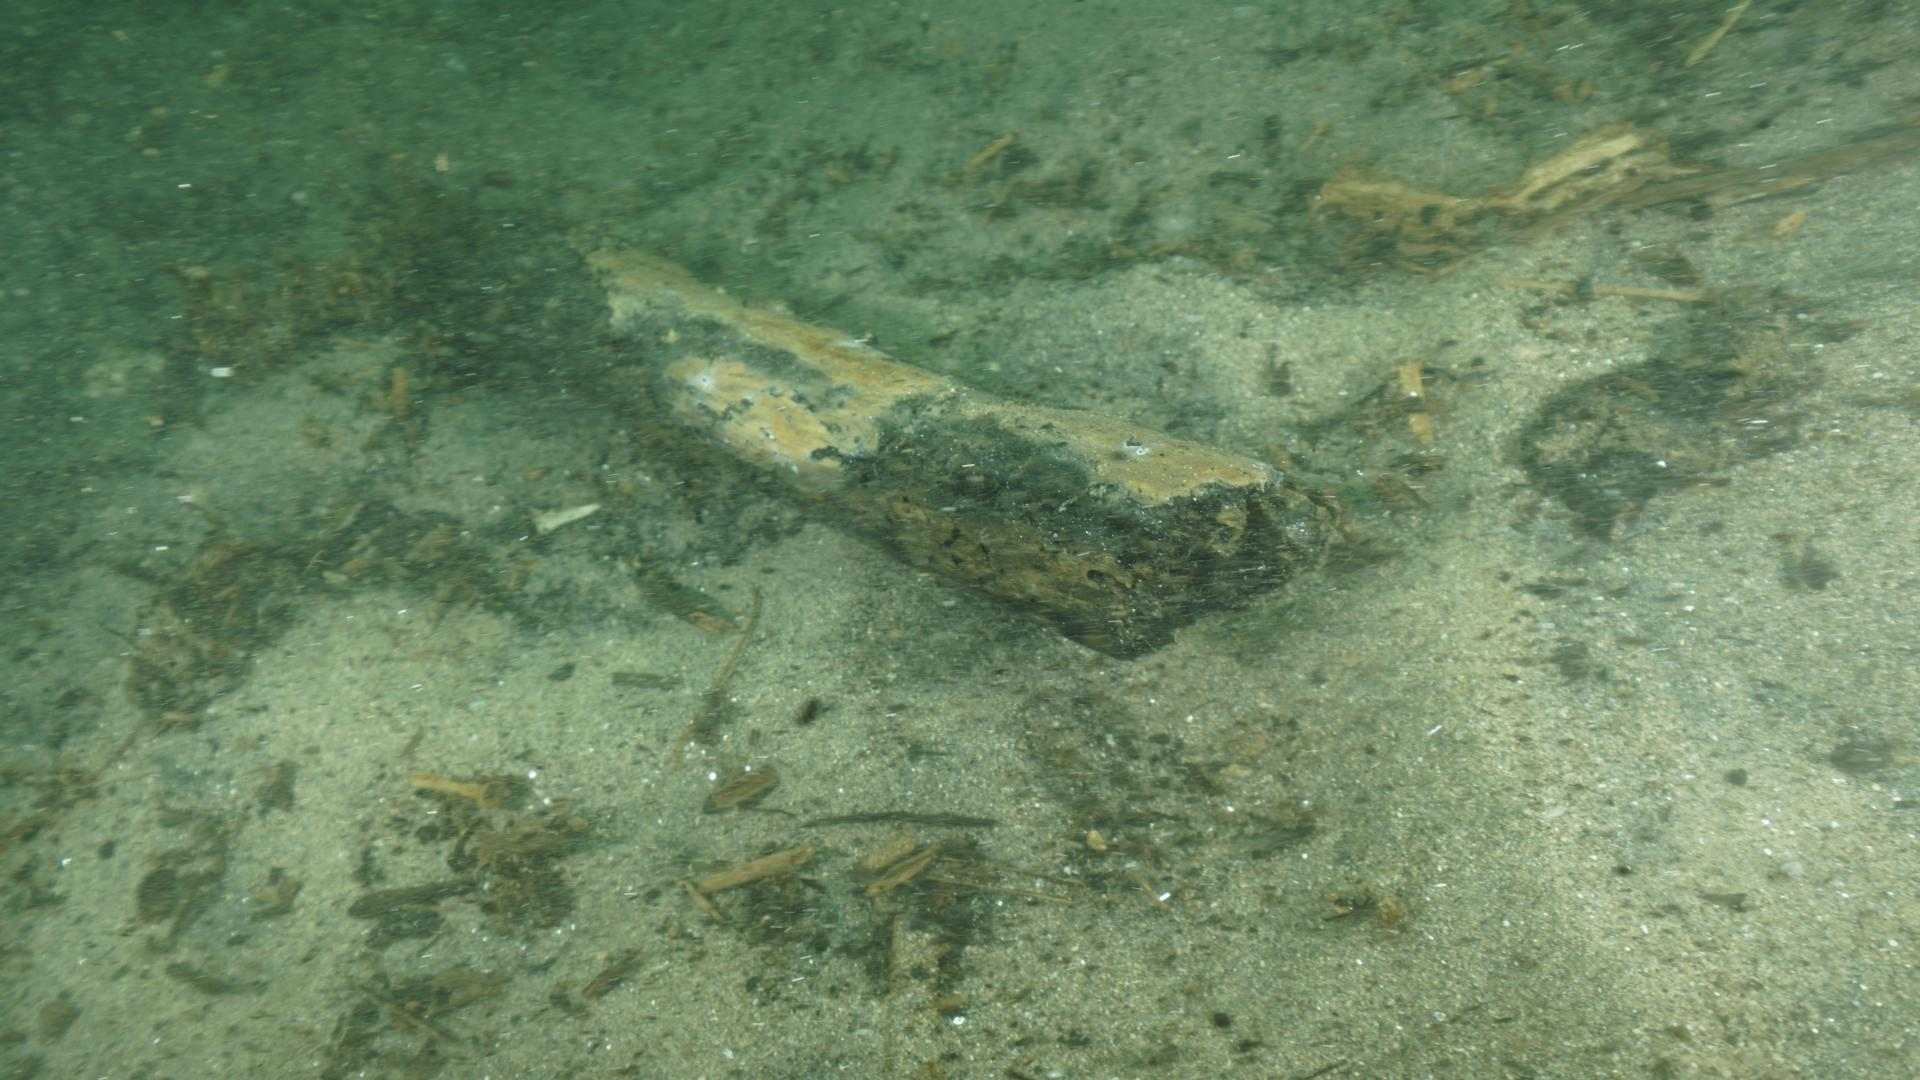wood: (578, 243, 1338, 659)
